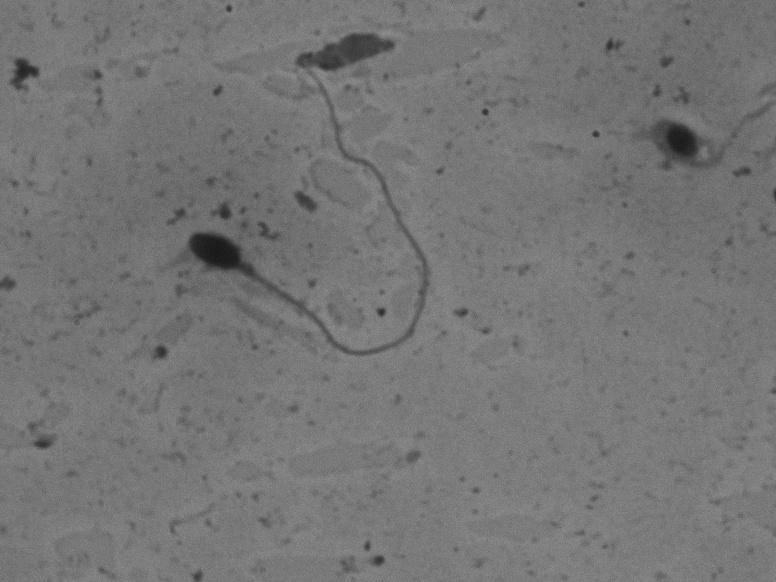Normal: (150, 59, 464, 366)
